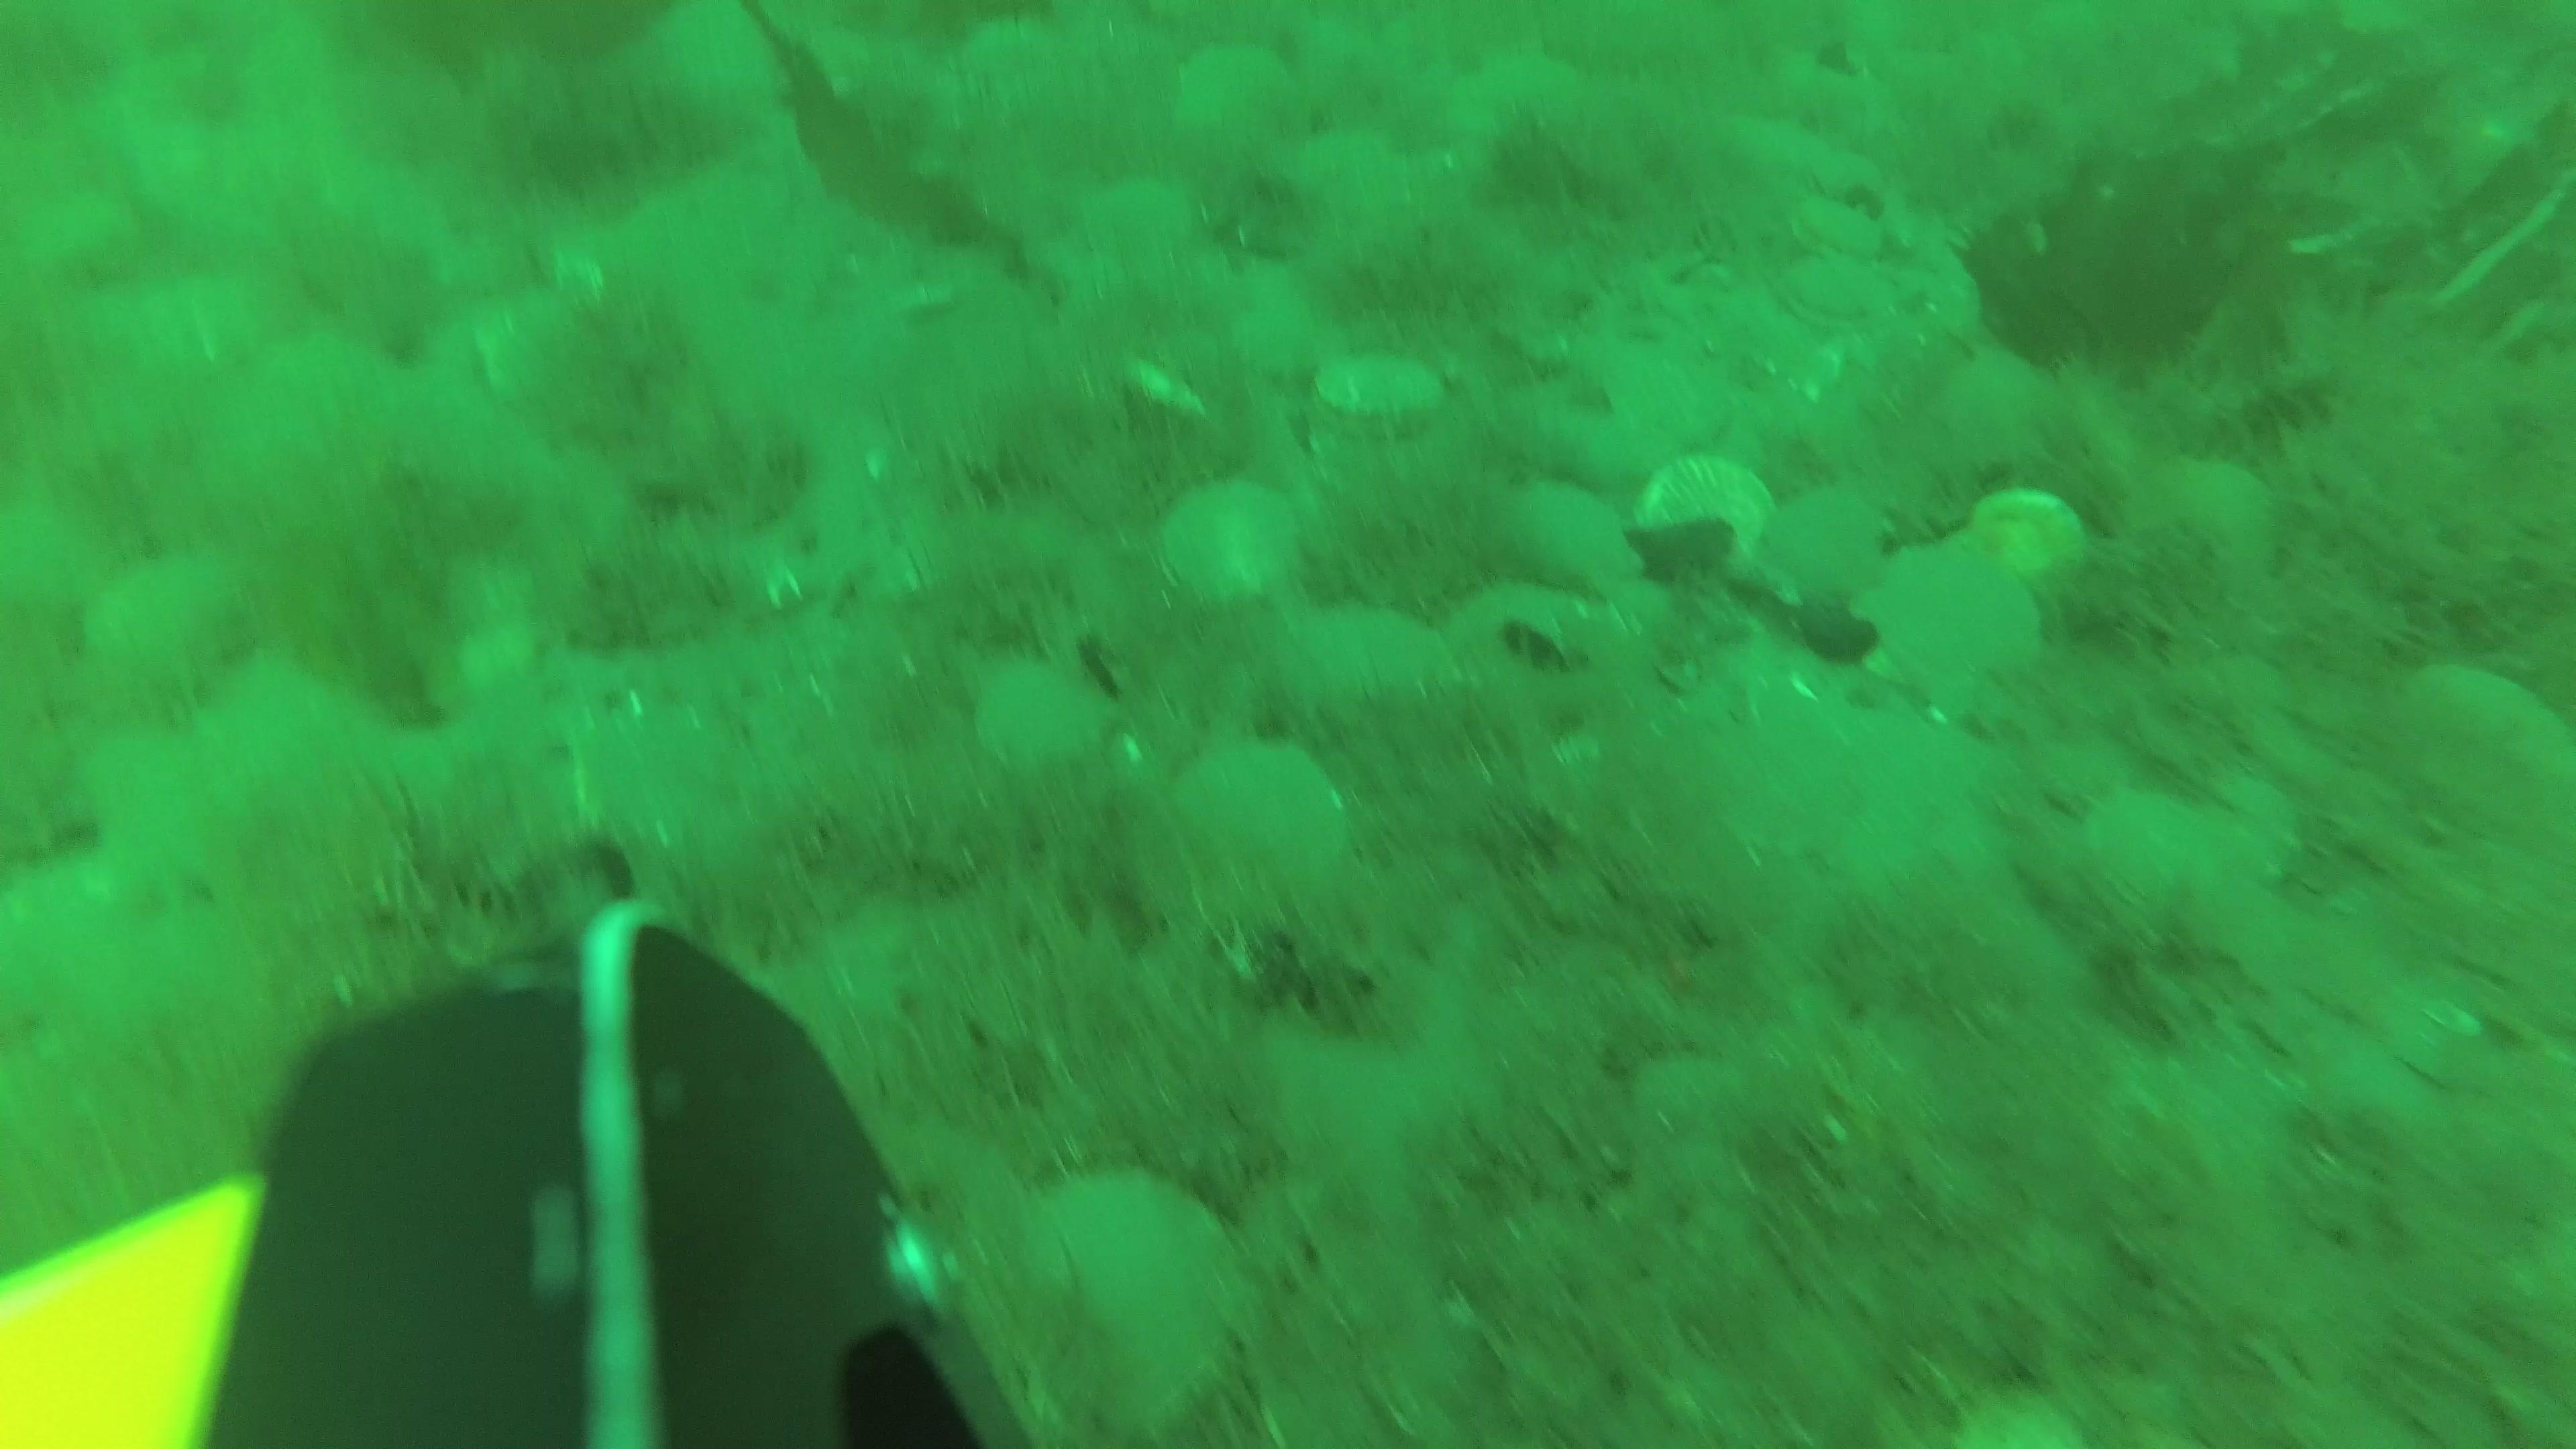scallop: (1001, 1169, 1254, 1426), (2408, 663, 2576, 840), (1173, 729, 1352, 886), (1861, 563, 2049, 706), (1449, 584, 1628, 717), (1281, 616, 1444, 757), (1169, 48, 1311, 179), (83, 740, 226, 869), (2088, 800, 2243, 918), (1635, 464, 1775, 594), (1755, 490, 1900, 616), (2158, 462, 2288, 596), (1162, 479, 1304, 602), (88, 557, 219, 688), (1506, 479, 1633, 598), (970, 662, 1104, 770), (1316, 340, 1460, 441), (1782, 260, 1891, 345), (1799, 191, 1904, 269)
